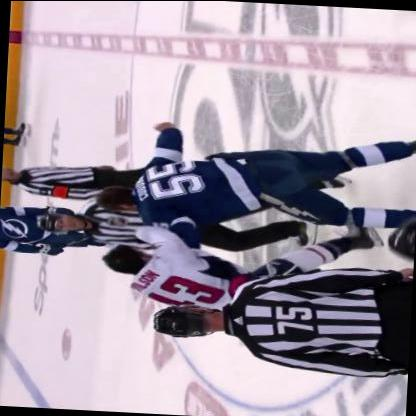non-Voilence: (152, 262, 412, 377)
voilence: (88, 116, 415, 325)
